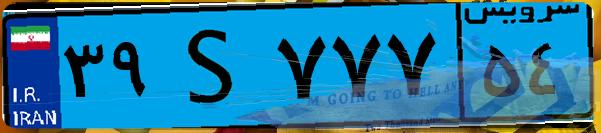3: (57, 26, 110, 100)
4: (525, 38, 570, 115)
5: (475, 38, 525, 113)
7: (270, 28, 330, 110), (385, 28, 445, 110), (330, 28, 385, 110)
9: (110, 28, 158, 98)
S: (158, 12, 270, 120)
